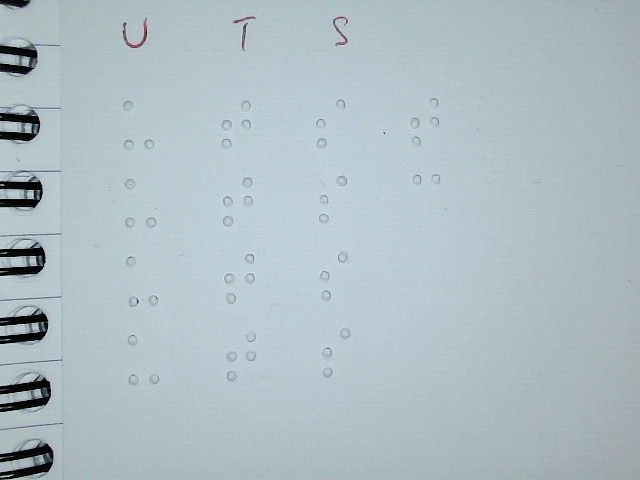S: (313, 96, 347, 149), (316, 172, 350, 225), (317, 248, 351, 301), (319, 325, 353, 378)
T: (219, 98, 253, 151), (221, 175, 255, 228), (223, 251, 257, 304), (224, 329, 258, 382)
U: (121, 97, 156, 151), (123, 176, 158, 230), (125, 253, 160, 307), (126, 332, 161, 386)
